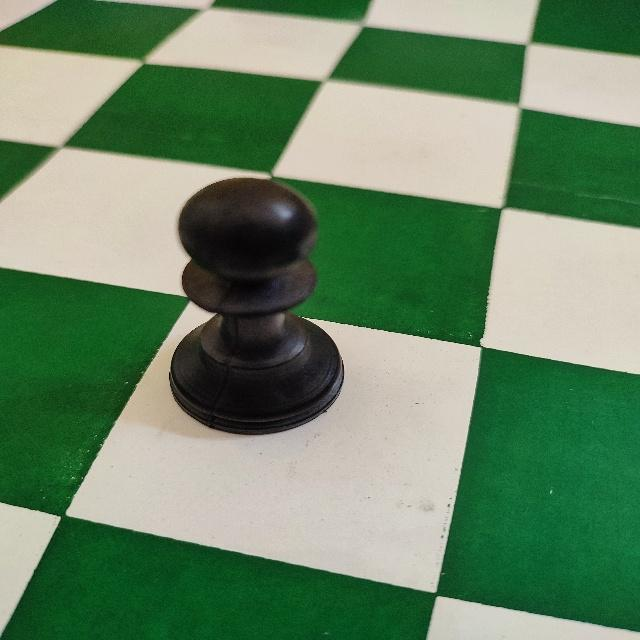Pawn: (169, 173, 347, 436)
